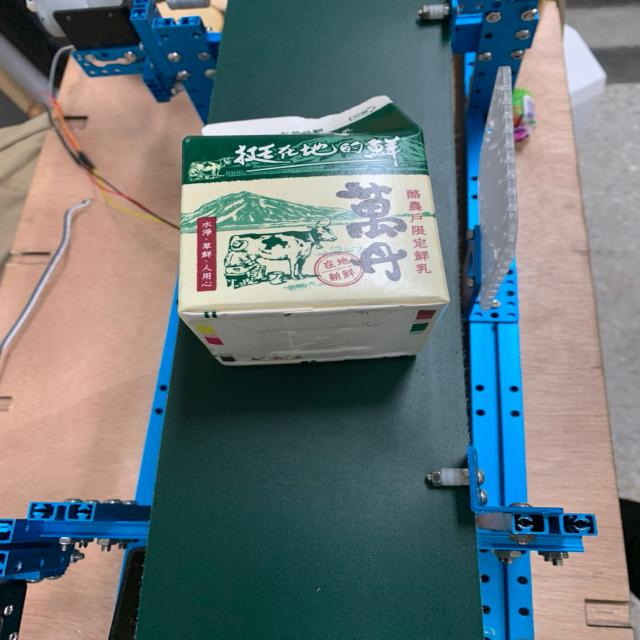non_white_jug: (170, 88, 472, 379)
